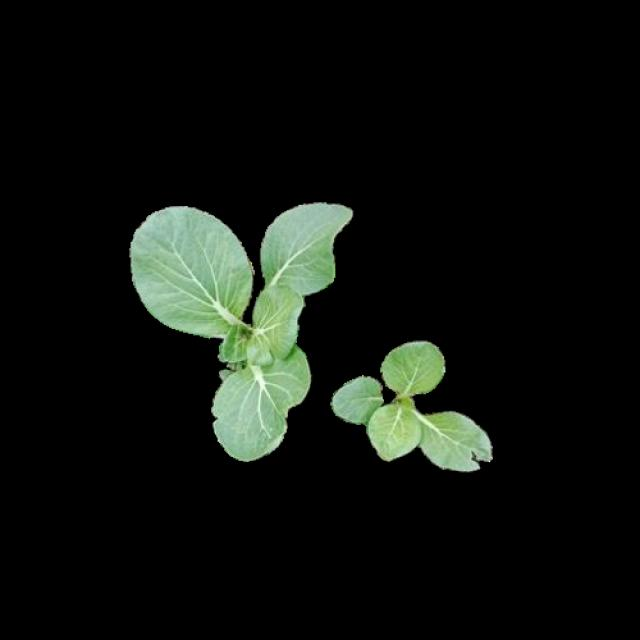not-mature: (130, 200, 350, 457), (332, 340, 496, 475)
unhealthy: (209, 371, 306, 457), (424, 413, 492, 472)
